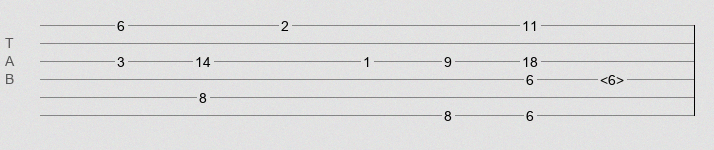1: (363, 54, 371, 64)
11: (522, 18, 538, 28)
14: (195, 54, 211, 64)
18: (522, 54, 538, 64)
2: (281, 18, 289, 28)
3: (117, 54, 125, 64)
6: (117, 18, 125, 28), (526, 108, 534, 118), (526, 72, 534, 82)
8: (199, 90, 207, 100), (444, 108, 452, 118)
9: (444, 54, 452, 64)
harmonic: (600, 72, 624, 82)
